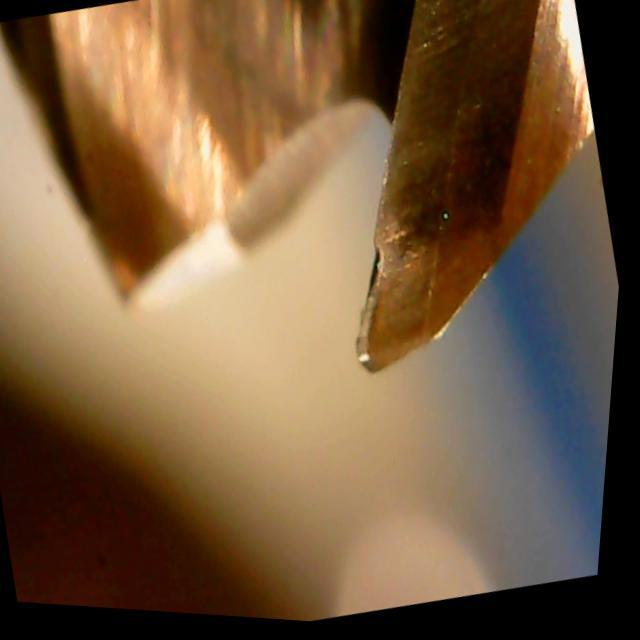Tool-wear-class-1: (292, 131, 511, 397)
